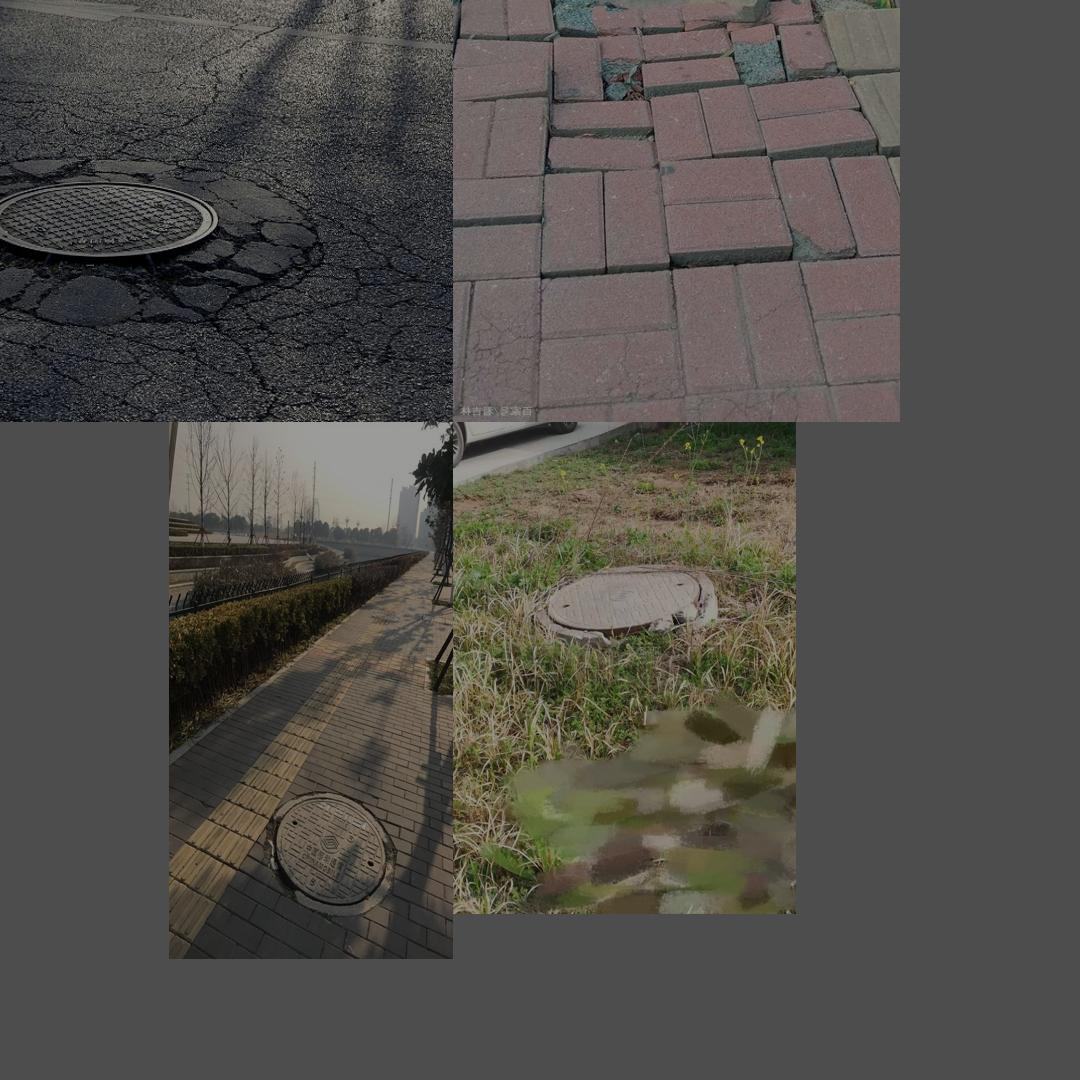circle: (0, 150, 335, 348), (458, 0, 890, 111), (523, 559, 715, 648), (264, 791, 398, 916)
